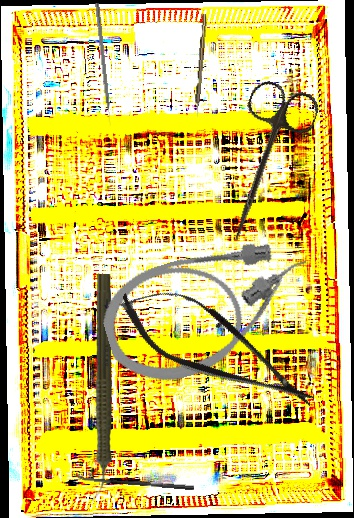Cannula: (91, 224, 329, 396)
Handpiece: (88, 274, 115, 501)
Hook Surgical: (94, 2, 112, 127), (193, 13, 208, 118)
Iris Scissors: (206, 77, 323, 252)
Micro Scissor: (106, 265, 330, 432)
Surgical Spoon: (74, 474, 194, 491)
